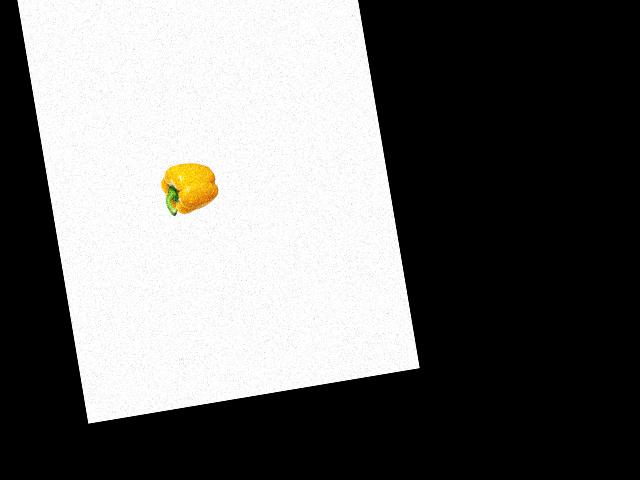bell_pepper: (152, 154, 224, 223)
